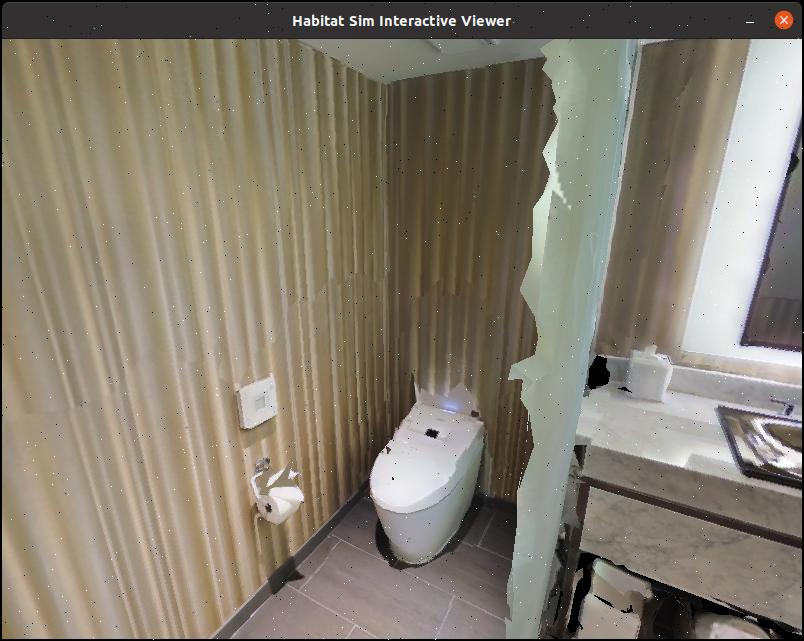toilet: (340, 362, 510, 585)
